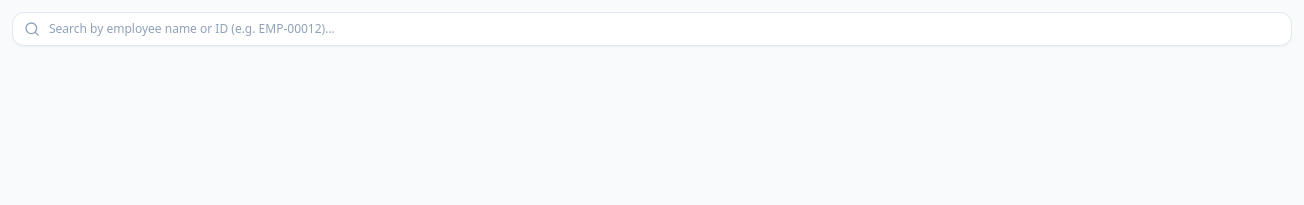
User Interactions & UI State Components › SearchAutocomplete debounces input and renders suggestions
Later steps or results of the test are not shown.
Type "Connor" into the field with placeholder "Search by employee name or ID (e.g. EMP-00012)...".
click(652, 29); type("Connor")  # box [12,12,1292,46]
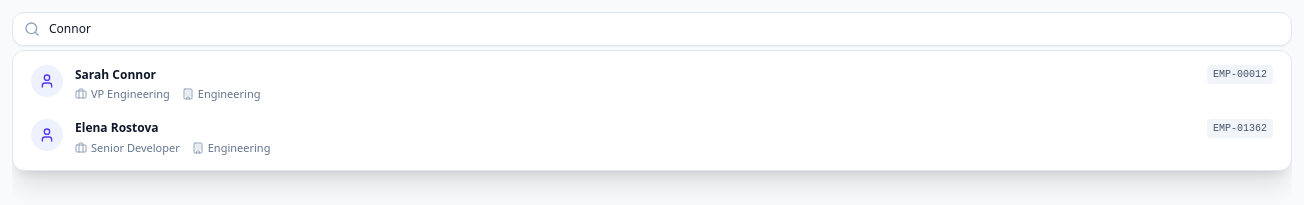
Now the text "Sarah Connor" is shown, box [75,66,156,82]
